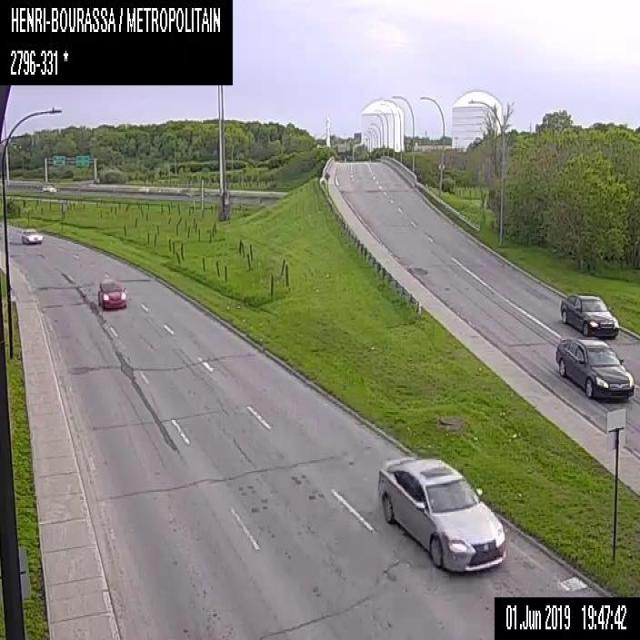vehicle: (377, 454, 506, 574), (555, 338, 634, 402), (560, 293, 618, 338), (98, 278, 127, 310), (20, 228, 43, 244), (41, 183, 57, 192)
